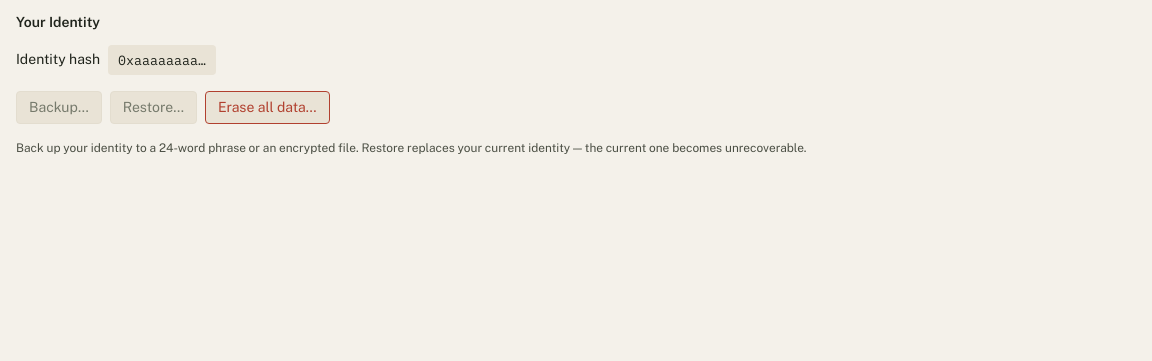
Test: Backup wizard — step 1 (type picker) › selecting file and clicking Continue transitions to fileEntry phase
The width and height of the screenshot is (1152, 361).
Check: the button "0xaaaaaaaa…" is shown, box x1=108 y1=45 x2=216 y2=75
Click the button "Backup…" at (59, 107), box x1=16 y1=91 x2=102 y2=124
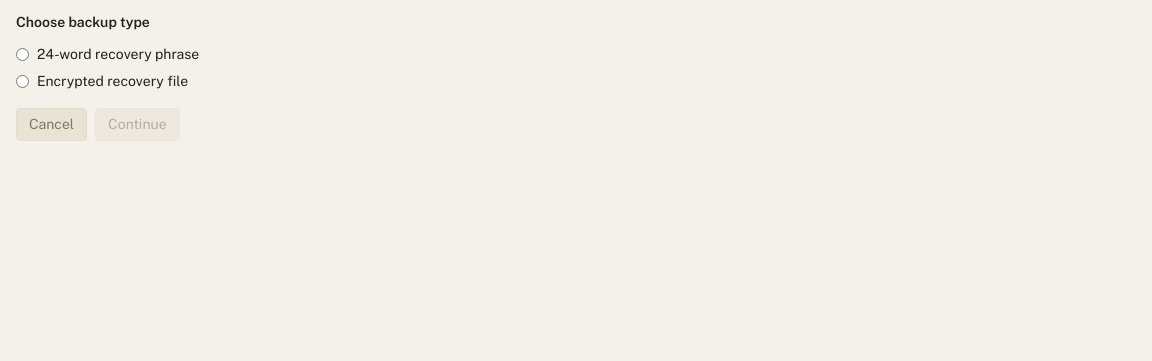
Click the radio button labelled "Encrypted recovery file" at (22, 82), box x1=16 y1=76 x2=29 y2=88
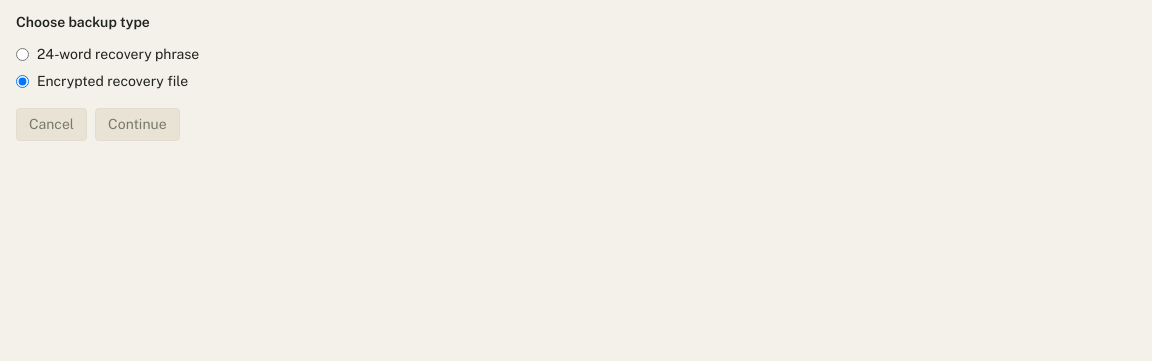
Click the button "Continue" at (137, 125), box x1=95 y1=108 x2=180 y2=141
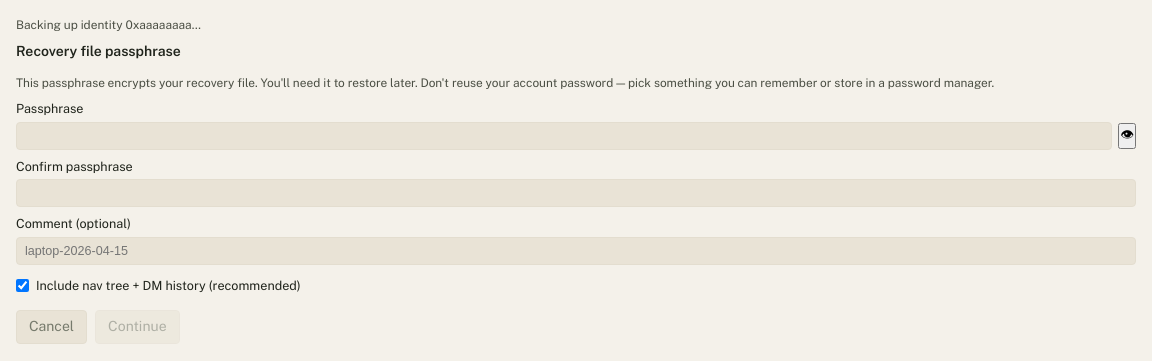
Check: the heading "Recovery file passphrase" is shown, box x1=16 y1=43 x2=181 y2=59
Check: the heading "Choose backup type" is gone
